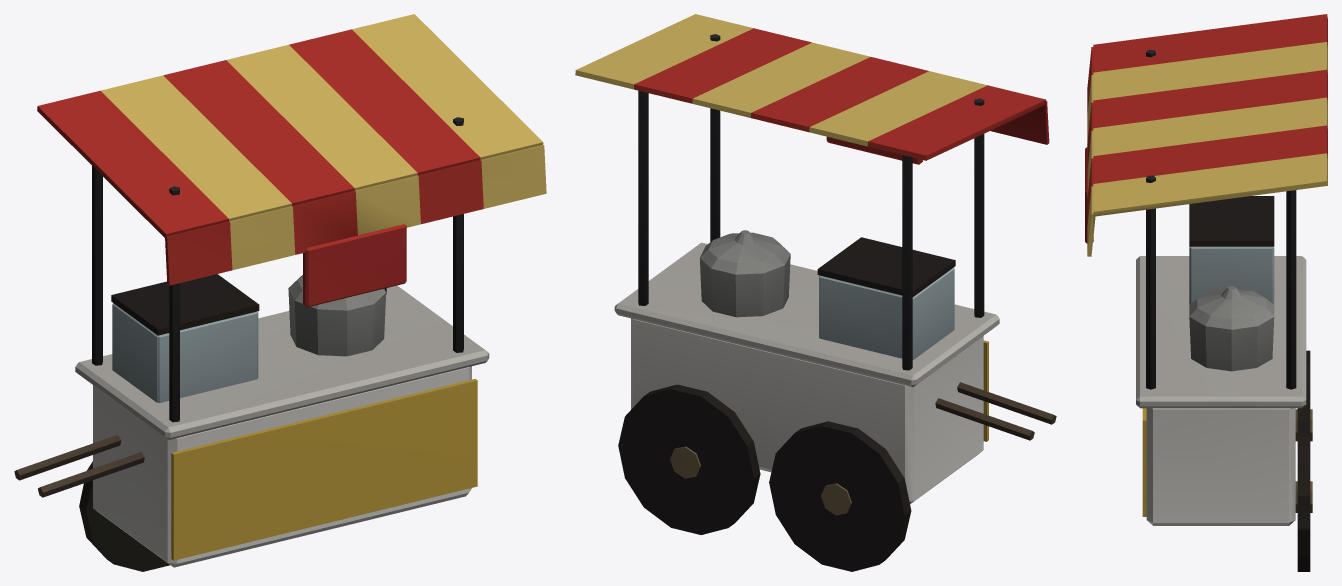
File: tp_cart-DdGx0GZo.glb
3 renders of one model, left to right at view 1: azimuth 30°, elevation 25°; view 2: azimuth 150°, elevation 25°; view 3: azimuth 270°, elevation 25°, orthographic. The views are drawn at different scales.
Bounding box in the file's own units: 2.19 × 2.24 × 1.14.
